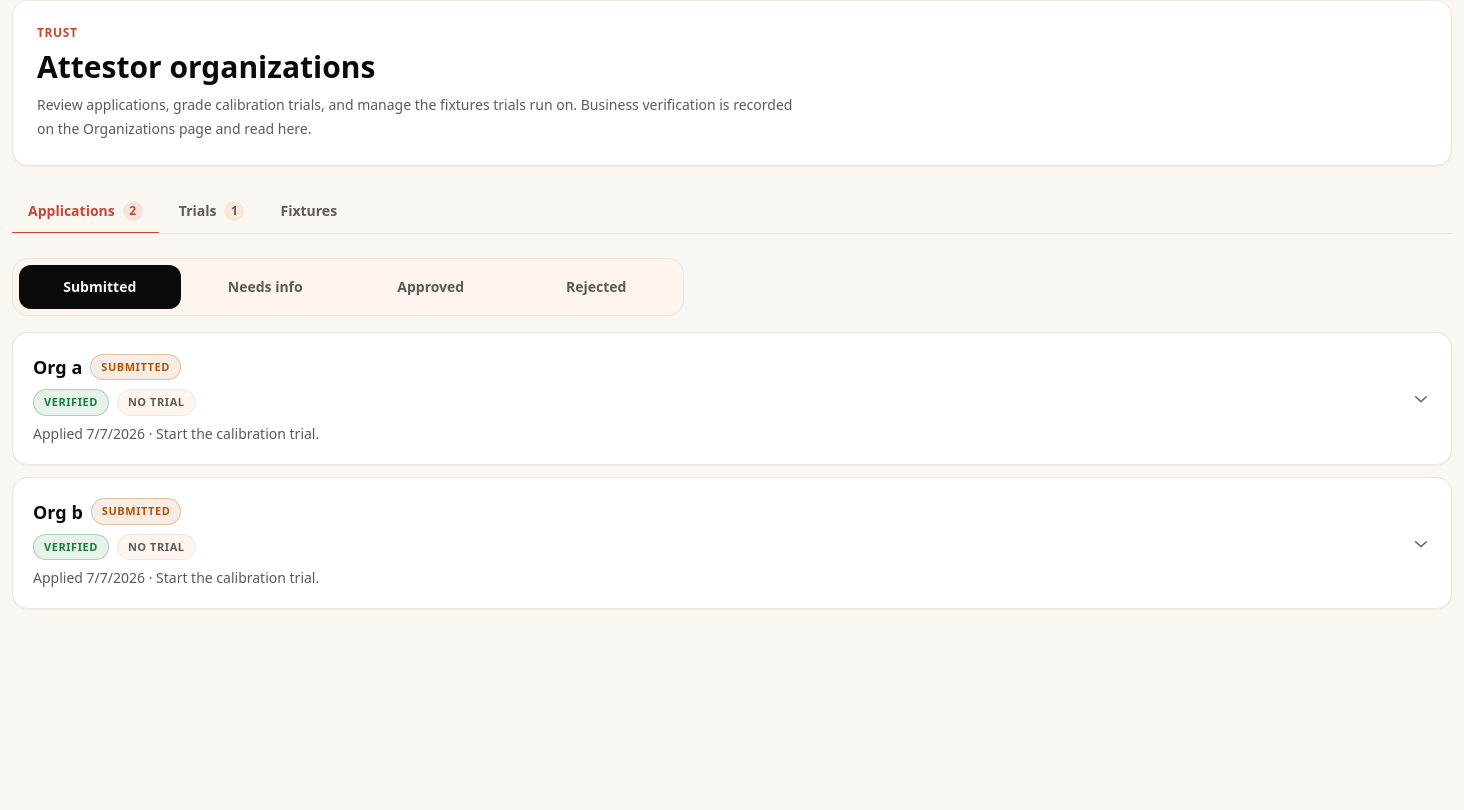
Test: AdminAttestorsConsole › switches to Trials, writes the tab to the URL, and opens the trial cards
Expected: the heading "Org a" is shown, [33,353,82,381]
Click the tab "Trials 1": (212, 212) [163,190,260,234]
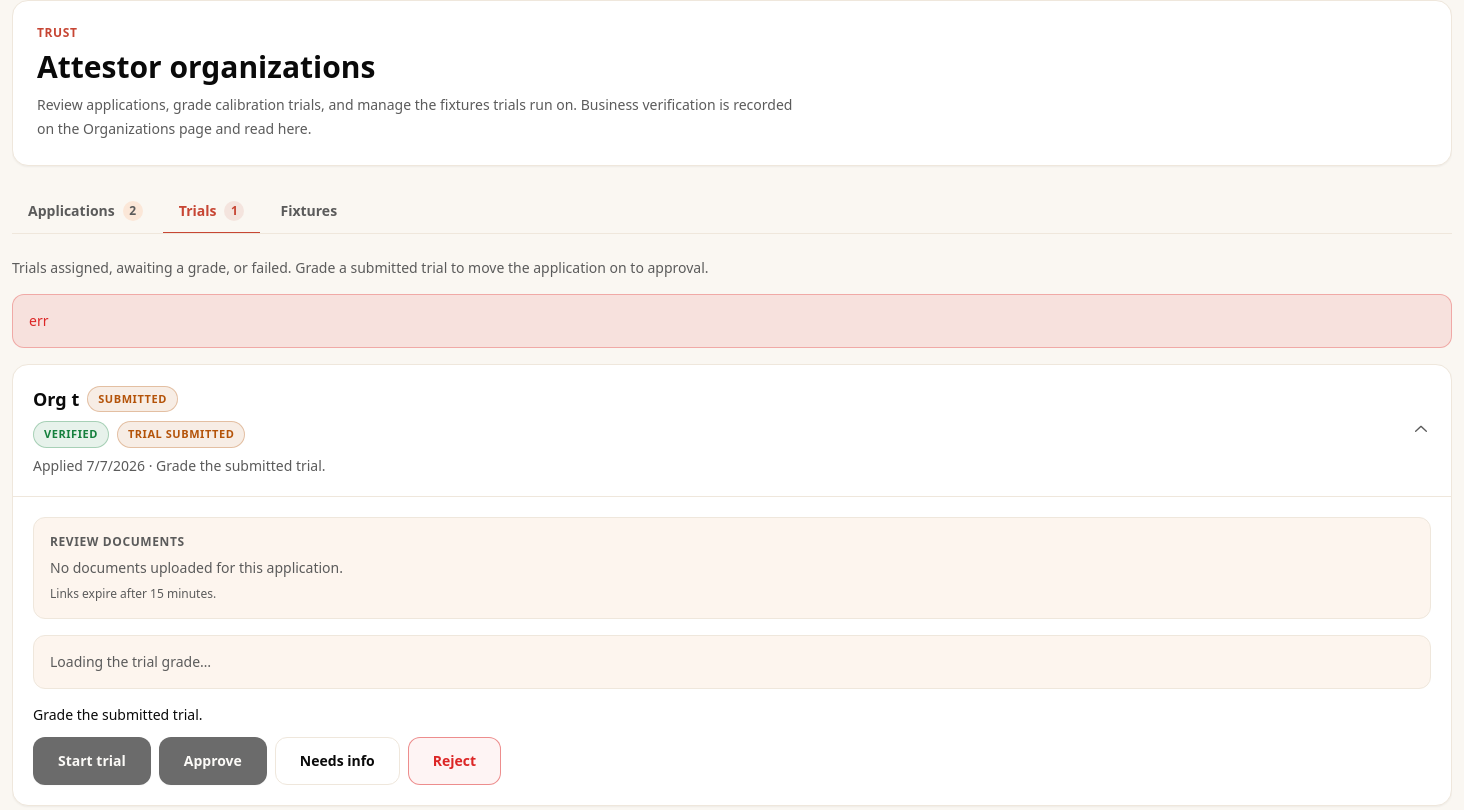
Now the heading "Org t" is shown, box [33,385,79,413]
Now the text "Trials assigned, awaiting a grade" is shown, box [12,258,709,277]
